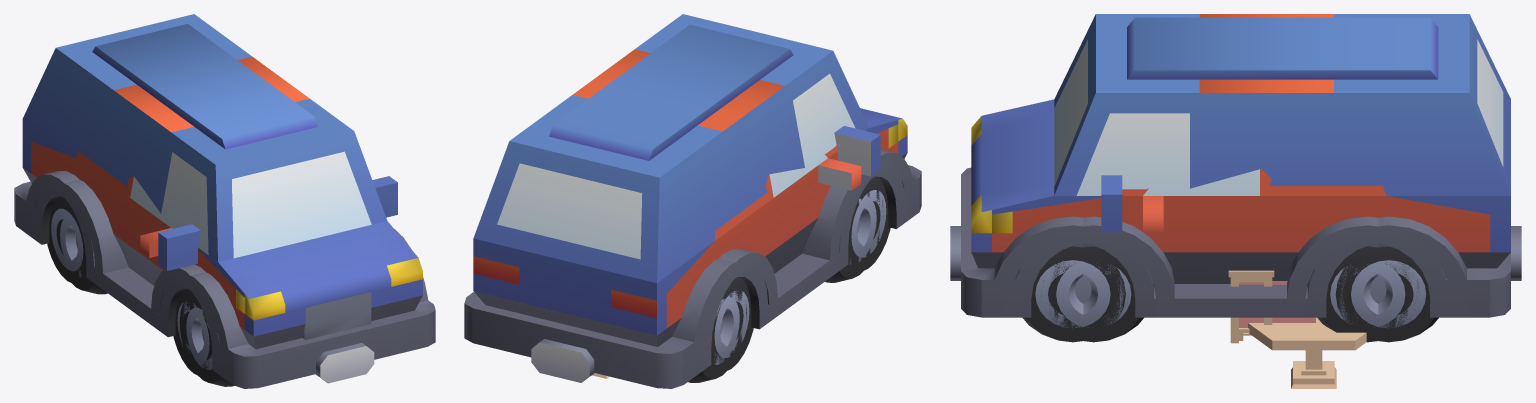
File: props.glb
3 renders of one model, left to right at view 1: azimuth 30°, elevation 25°; view 2: azimuth 150°, elevation 25°; view 3: azimuth 270°, elevation 25°, orthographic. The views are drawn at different scales.
Parts seen in each view (by area): view 1: body (×2), wheel-front-right (×2), wheel-back-right (×2); view 2: body (×2), wheel-back-right (×2), wheel-front-right (×2); view 3: body (×2), wheel-front-left (×2), wheel-back-left (×2), tableRound(Clone), sideTable(Clone), loungeChair(Clone).
Boxes of the visible parts, x1=… form: body (×2): x1=14, y1=14, x2=435, y2=388; wheel-front-right (×2): x1=173, y1=289, x2=234, y2=386; wheel-back-right (×2): x1=47, y1=196, x2=107, y2=294; body (×2): x1=464, y1=14, x2=921, y2=388; wheel-back-right (×2): x1=688, y1=277, x2=753, y2=382; wheel-front-right (×2): x1=825, y1=176, x2=890, y2=282; body (×2): x1=950, y1=14, x2=1521, y2=317; wheel-front-left (×2): x1=1022, y1=243, x2=1154, y2=342; wheel-back-left (×2): x1=1307, y1=243, x2=1438, y2=342; tableRound(Clone): x1=1248, y1=317, x2=1366, y2=388; sideTable(Clone): x1=1228, y1=270, x2=1274, y2=343; loungeChair(Clone): x1=1239, y1=281, x2=1315, y2=340.
Bounding box in the file's own units: 1.5 × 1.62 × 2.75.
12 materials, 1 textured.
